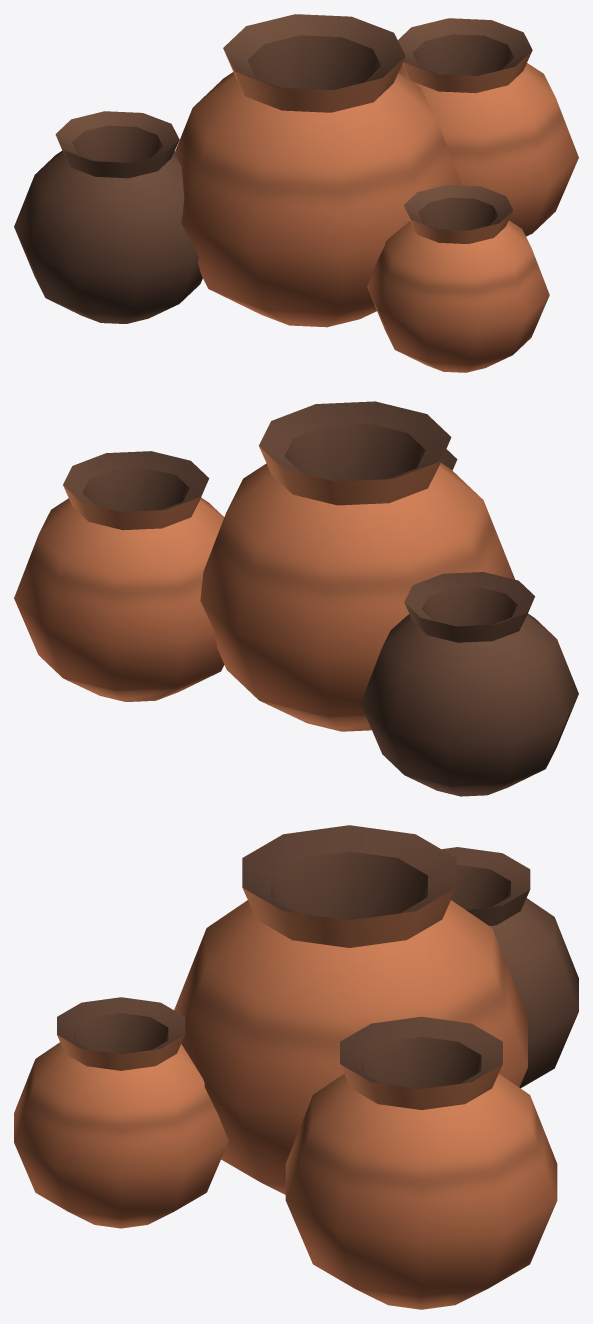
File: market_pots.glb
The picture shows the model from 3 angles, top to bottom: view 1: azimuth 30°, elevation 25°; view 2: azimuth 150°, elevation 25°; view 3: azimuth 270°, elevation 25°; orthographic projection. The views are drawn at different scales.
Visible parts, largest first — view 1: market_pots; view 2: market_pots; view 3: market_pots.
Part boxes in pixels (x1,y1,x2,y2): market_pots: (14,14,578,372); market_pots: (14,401,578,796); market_pots: (14,825,578,1309).
Bounding box in the file's own units: 1.23 × 0.5625 × 0.9404.
Materials: 1 (1 with a texture image).
